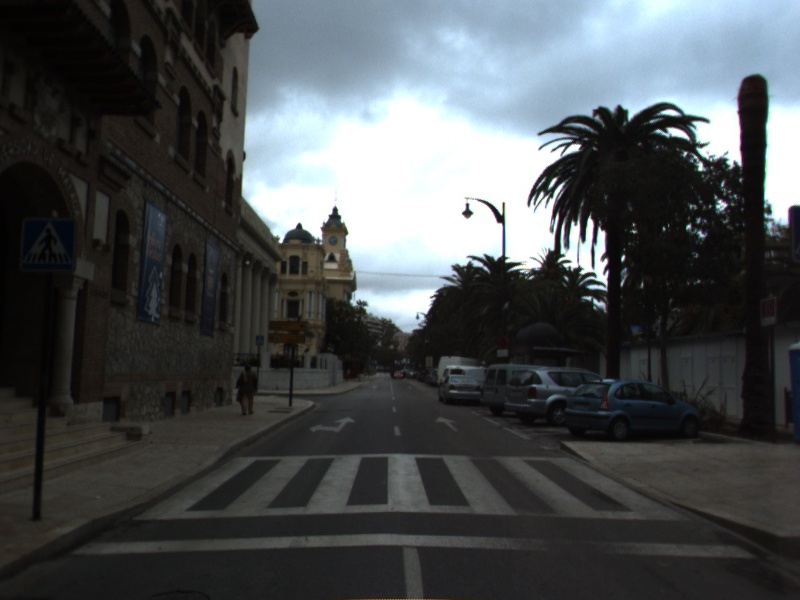STRAIGHT: (433, 414, 462, 434)
STRAIGHT_LEFT: (307, 415, 358, 435)
